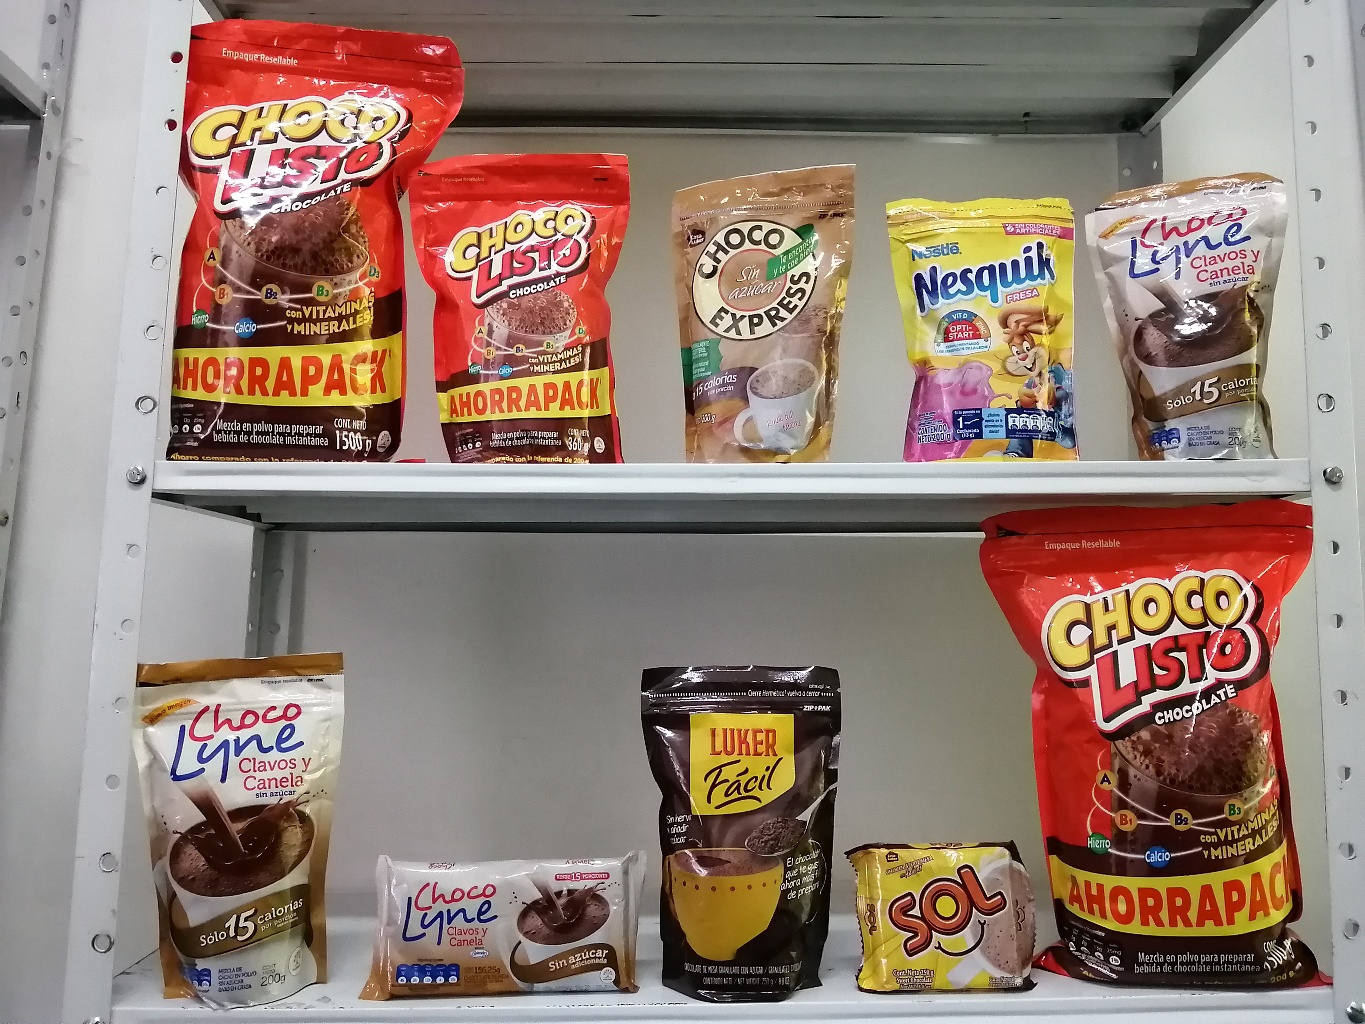COL0170103DYP1,500: (166, 17, 441, 467)
COL0170103DYP36000: (414, 142, 660, 463)
COL0170305DYP20000: (880, 186, 1097, 463)
